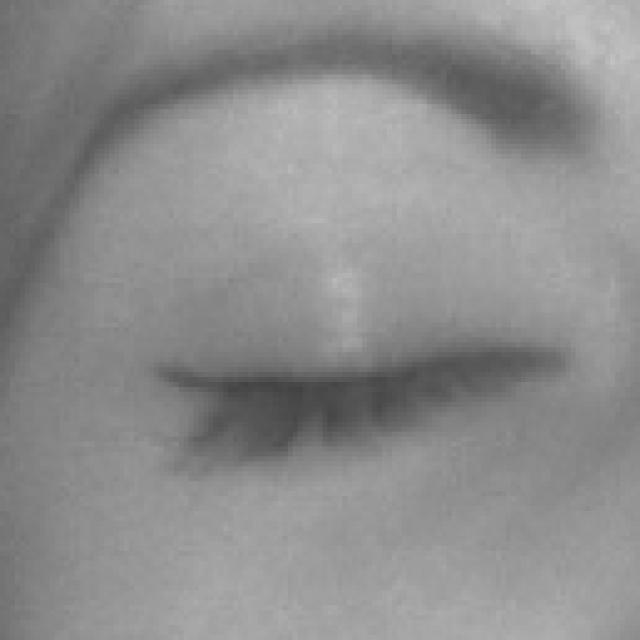Eyeclosed: (150, 204, 578, 571)
